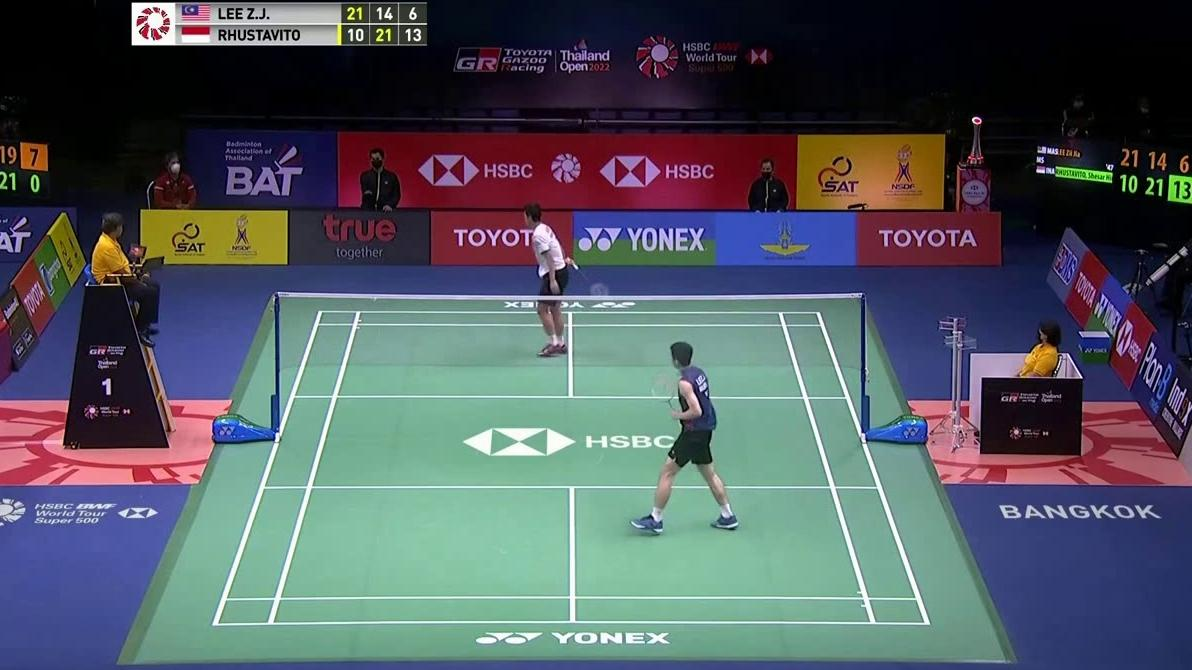racket: (564, 256, 610, 305), (649, 373, 683, 430)
shuttle: (369, 292, 378, 304)
